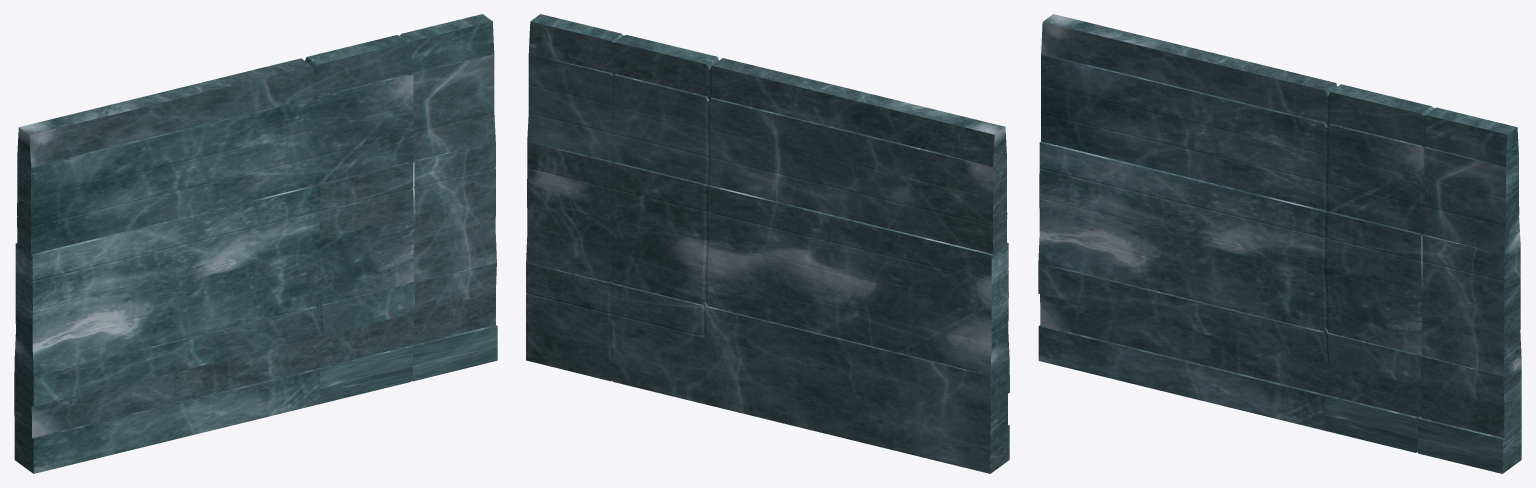
The model's file is Ice_Wall_Test.fbx.
3 renders of one model, left to right at view 1: azimuth 30°, elevation 25°; view 2: azimuth 150°, elevation 25°; view 3: azimuth 330°, elevation 25°, orthographic.
Visible parts, largest first — view 1: Ice wall; view 2: Ice wall; view 3: Ice wall.
Part boxes in pixels (x1,y1,x2,y2): Ice wall: [14, 14, 497, 473]; Ice wall: [526, 14, 1009, 473]; Ice wall: [1038, 14, 1521, 473].
Size of the model in its own units: 700 by 484 by 50.46.
Materials: 1 (1 with a texture image).
